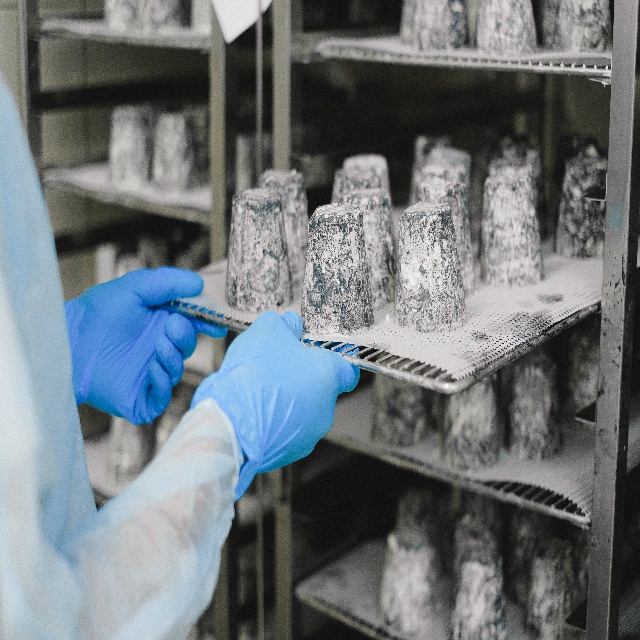Guantes: (191, 308, 361, 498), (57, 265, 226, 428)
